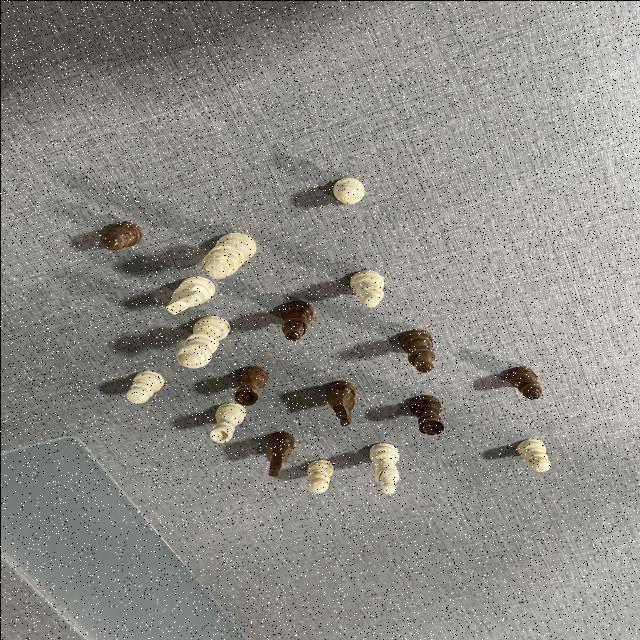Black-Bishop: (399, 328, 434, 372), (275, 302, 313, 342)
Black-Knight: (259, 431, 297, 473), (324, 382, 354, 426)
Black-Pawn: (100, 221, 140, 250), (506, 366, 542, 398)
Black-Rook: (402, 396, 444, 436), (229, 366, 267, 404)
White-Bishop: (367, 442, 399, 494), (350, 267, 384, 308)
White-King: (195, 232, 258, 278)
White-Knight: (163, 274, 215, 314)
White-Pawn: (124, 370, 164, 404), (516, 437, 552, 472), (304, 458, 332, 494), (328, 176, 364, 204)
White-Queen: (170, 314, 228, 368)
White-Rook: (208, 402, 245, 442)
